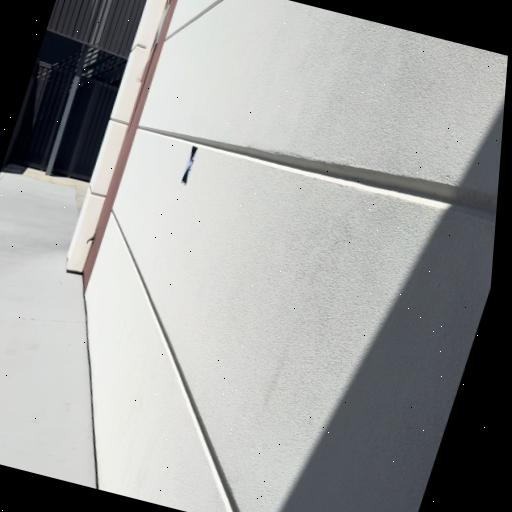target7: (180, 146, 198, 184)
